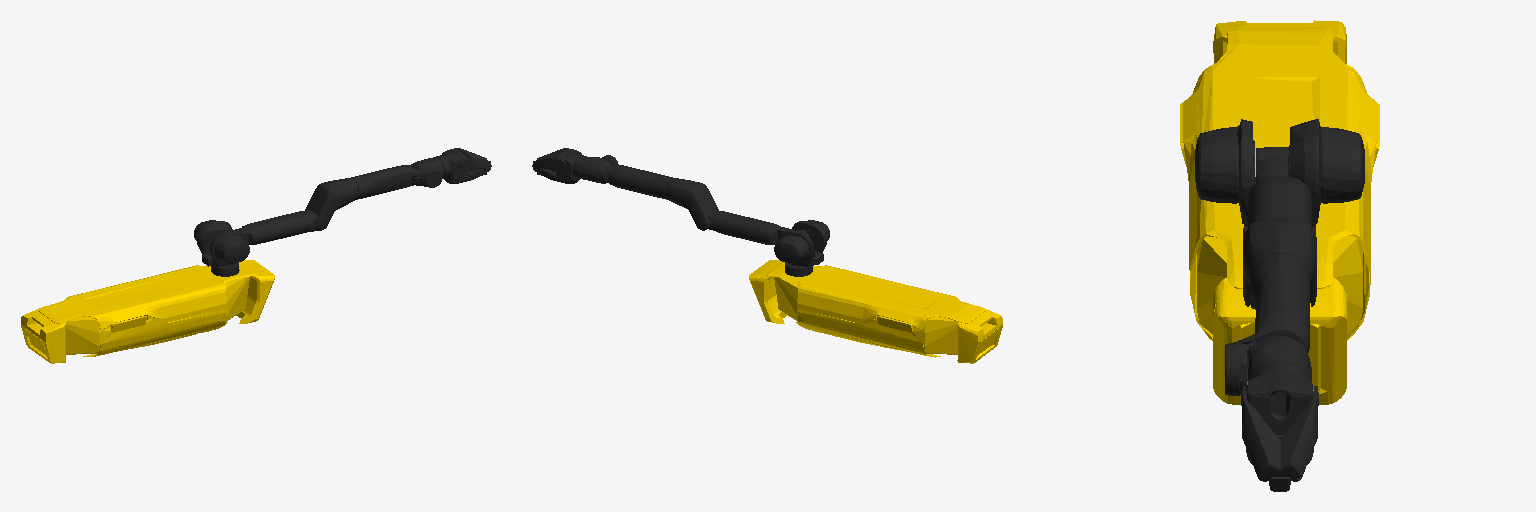
The robot description file, URDF, robot "spot":
<robot name="spot">
  <link name="base">
    <visual>
      <origin xyz="0 0 0" rpy="0 0 0"/>
      <geometry>
        <mesh filename="link_models/base.obj.dae"/>
      </geometry>
<material name="base"> <color rgba="1 0.8431 0 1"/></material>    </visual>
  </link>

  <link name="arm0.link_sh0">
    <visual>
      <origin xyz="0 0 0" rpy="0 0 0"/>
      <geometry>
        <mesh filename="link_models/arm0.link_sh0.obj.dae"/>
      </geometry>
      <material name="arm0.link_sh0"> <color rgba="0.2 0.2 0.2 1"/></material>    
    </visual>
  </link>
  
  <joint name="arm0.sh0" type="revolute">
    <origin xyz="0.292 0.0 0.188" rpy="0 0 0"/>
    <axis xyz="0 0 1"/>
    <parent link="base"/>
    <child link="arm0.link_sh0"/>
    <limit effort="1000" velocity="1000.00" lower="-2.61799387799149441136" upper="3.14159265358979311599"/>
  </joint>

  <link name="arm0.link_sh1">
    <visual>
      <origin xyz="0 0 0" rpy="0 0 0"/>
      <geometry>
        <mesh filename="link_models/arm0.link_sh1.obj.dae"/>
      </geometry>
      <material name="arm0.link_sh1"> <color rgba="0.2 0.2 0.2 1"/></material>    
    </visual>
  </link>

  <joint name="arm0.sh1" type="revolute">
    <origin xyz="0.0 0.0 0.0" rpy="0 0 0"/>
    <axis xyz="0 1 0"/>
    <parent link="arm0.link_sh0"/>
    <child link="arm0.link_sh1"/>
    <limit effort="1000" velocity="1000.00" lower="-3.14159265358979311599" upper="0.52359877559829881565"/>
  </joint>
  
  <link name="arm0.link_hr0">
    <visual>
      <origin xyz="0 0 0" rpy="0 0 0"/>
      <geometry>
        <mesh filename="link_models/arm0.link_hr0.obj.dae"/>
      </geometry>
      <material name="arm0.link_hr0"> <color rgba="0.2 0.2 0.2 1"/></material>
    </visual>
  </link>

  <joint name="arm0.hr0" type="revolute">
    <origin xyz="0.0 0.0 0.0" rpy="0 0 0"/>
    <axis xyz="1 0 0"/>
    <parent link="arm0.link_sh1"/>
    <child link="arm0.link_hr0"/>
    <limit effort="1000" velocity="1000.00" lower="-1e6" upper="1e6"/>
  </joint>
  
  <link name="arm0.link_el0">
    <visual>
      <origin xyz="0 0 0" rpy="0 0 0"/>
      <geometry>
      <mesh filename="link_models/arm0.link_el0.obj.dae"/>
      </geometry>
      <material name="arm0.link_el0"> <color rgba="0.2 0.2 0.2 1"/></material>    
    </visual>
  </link>
  
  <joint name="arm0.el0" type="revolute">
    <origin xyz="0.3385 0 0" rpy="0 0 0"/>
    <axis xyz="0 1 0"/>
    <parent link="arm0.link_hr0"/>
    <child link="arm0.link_el0"/>
     <limit effort="1000" velocity="1000.00" lower="0" upper="3.14159265358979311599"/>
  </joint>
  
  <link name="arm0.link_el1">
    <visual>
      <origin xyz="0 0 0" rpy="0 0 0"/>
      <geometry>
        <mesh filename="link_models/arm0.link_el1.obj.dae"/>
      </geometry>
      <material name="arm0.link_el1"> <color rgba="0.2 0.2 0.2 1"/></material>    
    </visual>
  </link>
  
  <joint name="arm0.el1" type="revolute">
    <origin xyz="0.40330 0.0 0.0750" rpy="0 0 0"/>
    <axis xyz="1 0 0"/>
    <parent link="arm0.link_el0"/>
    <child link="arm0.link_el1"/>
     <limit effort="1000" velocity="1000.00" lower="-2.79252680319092716487" upper="2.79252680319092716487"/>
  </joint>
  
  <link name="arm0.link_wr0">
    <visual>
      <origin xyz="0 0 0" rpy="0 0 0"/>
      <geometry>
        <mesh filename="link_models/arm0.link_wr0.obj.dae"/>
      </geometry>
      <material name="arm0.link_wr0"> <color rgba="0.2 0.2 0.2 1"/></material>
    </visual>    
  </link>
  
  <joint name="arm0.wr0" type="revolute">
    <origin xyz="0.0 0.0 0.0" rpy="0 0 0"/>
    <axis xyz="0 1 0"/>
    <parent link="arm0.link_el1"/>
    <child link="arm0.link_wr0"/>
    <limit effort="1000" velocity="1000.00" lower="-1.83259571459404613236" upper="1.83259571459404613236"/>
  </joint>
  
  <link name="arm0.link_wr1">
    <visual>
      <origin xyz="0 0 0" rpy="0 0 0"/>
      <geometry>
        <mesh filename="link_models/arm0.link_wr1.obj.dae"/>
      </geometry>
      <material name="arm0.link_wr1"> <color rgba="0.2 0.2 0.2 1"/></material>    
    </visual>
  </link>
  
  <joint name="arm0.wr1" type="revolute">
    <origin xyz="0.0 0.0 0.0" rpy="0 0 0"/>
    <axis xyz="1 0 0"/>
    <parent link="arm0.link_wr0"/>
    <child link="arm0.link_wr1"/>
     <limit effort="1000" velocity="1000.00" lower="-2.87979326579064354163" upper="2.87979326579064354163"/>
  </joint>
  <link name="arm0.link_fngr">
    <visual>
      <origin xyz="0 0 0" rpy="0 0 0"/>
      <geometry>
        <mesh filename="link_models/arm0.link_fngr.obj.dae"/>
      </geometry>
<material name="arm0.link_fngr"> <color rgba="0.2 0.2 0.2 1"/></material>    </visual>
  </link>
  <joint name="arm0.f1x" type="revolute">
    <origin xyz="0.11745 0 0.014820" rpy="0 0 0"/>
    <axis xyz="0.0 1.0 0.0"/>
    <parent link="arm0.link_wr1"/>
    <child link="arm0.link_fngr"/>
     <limit effort="1000" velocity="1000.00" lower="-1.57" upper="0.0"/>
  </joint>
</robot>

--- Facts derived from the render (not from the file) ---
Views: 3 orthographic renders of the robot side by side, from view 1: azimuth 30°, elevation 25°; view 2: azimuth 150°, elevation 25°; view 3: azimuth 270°, elevation 25°.
Model spot with 9 links and 8 joints (8 revolute), rooted at base, posed every joint at zero.
Visible links, largest first — view 1: base, arm0.link_sh0, arm0.link_el1, arm0.link_hr0, arm0.link_el0, arm0.link_wr1; view 2: base, arm0.link_sh0, arm0.link_hr0, arm0.link_el0, arm0.link_el1, arm0.link_wr1, arm0.link_wr0; view 3: base, arm0.link_sh0, arm0.link_el1, arm0.link_fngr, arm0.link_wr1, arm0.link_hr0, arm0.link_el0, arm0.link_wr0.
Boxes of the visible links, x1,y1,x2,y2 form: base: (21,260,274,363); arm0.link_sh0: (194,220,249,276); arm0.link_el1: (351,165,442,199); arm0.link_hr0: (220,210,319,244); arm0.link_el0: (305,178,358,230); arm0.link_wr1: (436,149,486,183); base: (749,260,1002,363); arm0.link_sh0: (774,220,829,276); arm0.link_hr0: (709,208,809,244); arm0.link_el0: (665,178,718,230); arm0.link_el1: (602,155,672,199); arm0.link_wr1: (537,149,586,183); arm0.link_wr0: (580,157,614,183); base: (1180,20,1379,404); arm0.link_sh0: (1195,119,1364,239); arm0.link_el1: (1225,252,1309,395); arm0.link_fngr: (1241,386,1318,481); arm0.link_wr1: (1246,361,1313,491); arm0.link_hr0: (1248,147,1311,308); arm0.link_el0: (1243,219,1316,306); arm0.link_wr0: (1240,335,1311,394).
Bounding box of the posed robot: 1.7 × 0.2473 × 0.3951 m (x, y, z).
9 mesh visuals loaded from 9 distinct referenced files (9 Collada DAE).